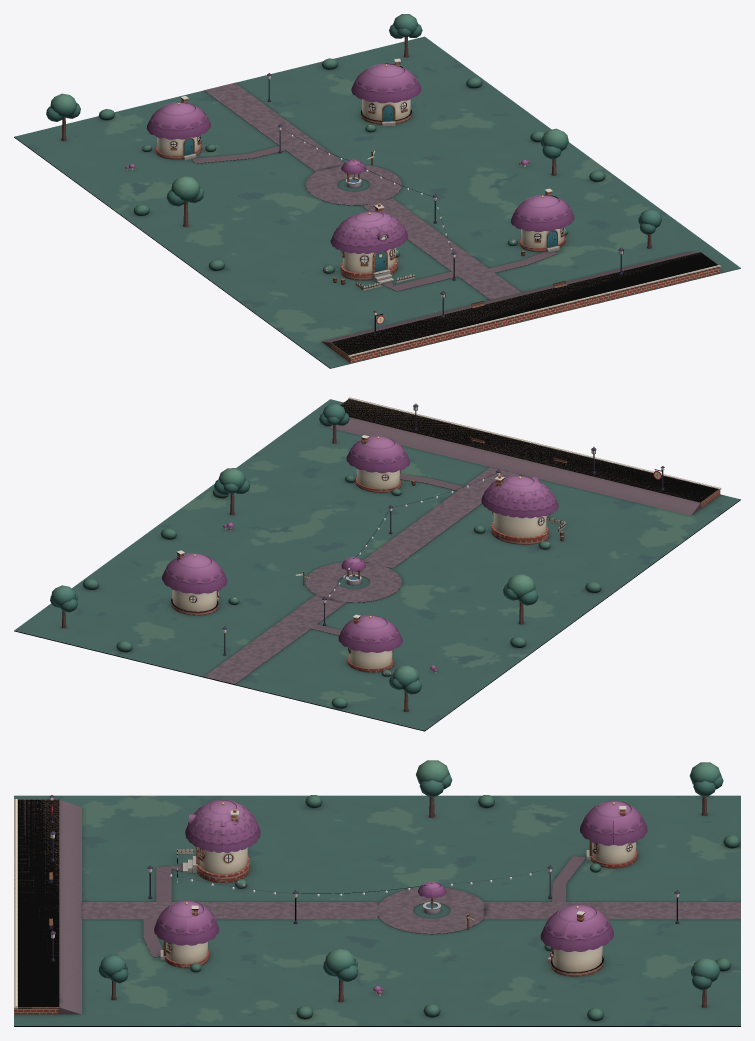
Rendered from stop_village.fbx.
The picture shows the model from 3 angles, top to bottom: view 1: azimuth 30°, elevation 25°; view 2: azimuth 150°, elevation 25°; view 3: azimuth 270°, elevation 25°; orthographic projection. The views are drawn at different scales.
Visible parts, largest first — view 1: stop_village; view 2: stop_village; view 3: stop_village.
Boxes of the visible parts, x1,y1,x2,y2 form: stop_village: [14, 14, 740, 368]; stop_village: [14, 397, 740, 731]; stop_village: [14, 760, 740, 1026].
Size of the model in its own units: 12000 by 1656 by 16000.
2 materials, 1 textured.
